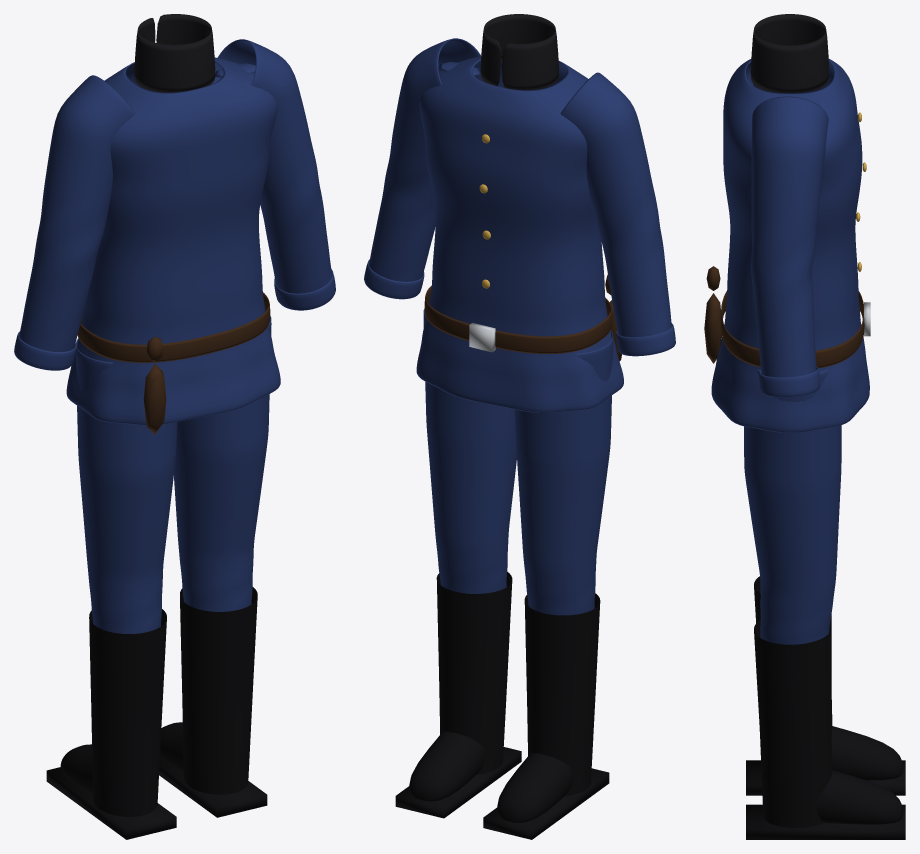
File: tenue_riza_generee.glb
3 renders of one model, left to right at view 1: azimuth 30°, elevation 25°; view 2: azimuth 150°, elevation 25°; view 3: azimuth 270°, elevation 25°, orthographic. The views are drawn at different scales.
Visible parts, largest first — view 1: Veste_Riza, Pantalon_Riza, Manches_Riza, Bottes_Riza, Col_Roule_Riza, Semelles_Riza, Ceinture_Riza, Holster_Riza; view 2: Veste_Riza, Pantalon_Riza, Bottes_Riza, Manches_Riza, Col_Roule_Riza, Semelles_Riza, Ceinture_Riza, Boucle_Riza; view 3: Veste_Riza, Bottes_Riza, Manches_Riza, Pantalon_Riza, Col_Roule_Riza, Semelles_Riza, Ceinture_Riza, Holster_Riza.
Boxes of the visible parts, box(x1,y1,x2,y2) form: Veste_Riza: box(66, 57, 280, 425); Pantalon_Riza: box(75, 316, 271, 633); Manches_Riza: box(14, 39, 335, 370); Bottes_Riza: box(60, 587, 257, 816); Col_Roule_Riza: box(134, 14, 215, 92); Semelles_Riza: box(46, 758, 267, 839); Ceinture_Riza: box(77, 292, 270, 362); Holster_Riza: box(143, 337, 166, 434); Veste_Riza: box(416, 56, 623, 412); Pantalon_Riza: box(423, 308, 613, 615); Bottes_Riza: box(409, 572, 600, 822); Manches_Riza: box(364, 38, 675, 356); Col_Roule_Riza: box(480, 14, 559, 90); Semelles_Riza: box(395, 747, 609, 839); Ceinture_Riza: box(424, 285, 612, 353); Boucle_Riza: box(469, 322, 495, 352); Veste_Riza: box(711, 59, 869, 432); Bottes_Riza: box(754, 576, 902, 827); Manches_Riza: box(751, 84, 828, 397); Pantalon_Riza: box(744, 369, 841, 644); Col_Roule_Riza: box(750, 14, 828, 92); Semelles_Riza: box(746, 760, 905, 839); Ceinture_Riza: box(720, 291, 864, 368); Holster_Riza: box(704, 266, 721, 363).
Bounding box in the file's own units: 0.6571 × 1.56 × 0.3659.
